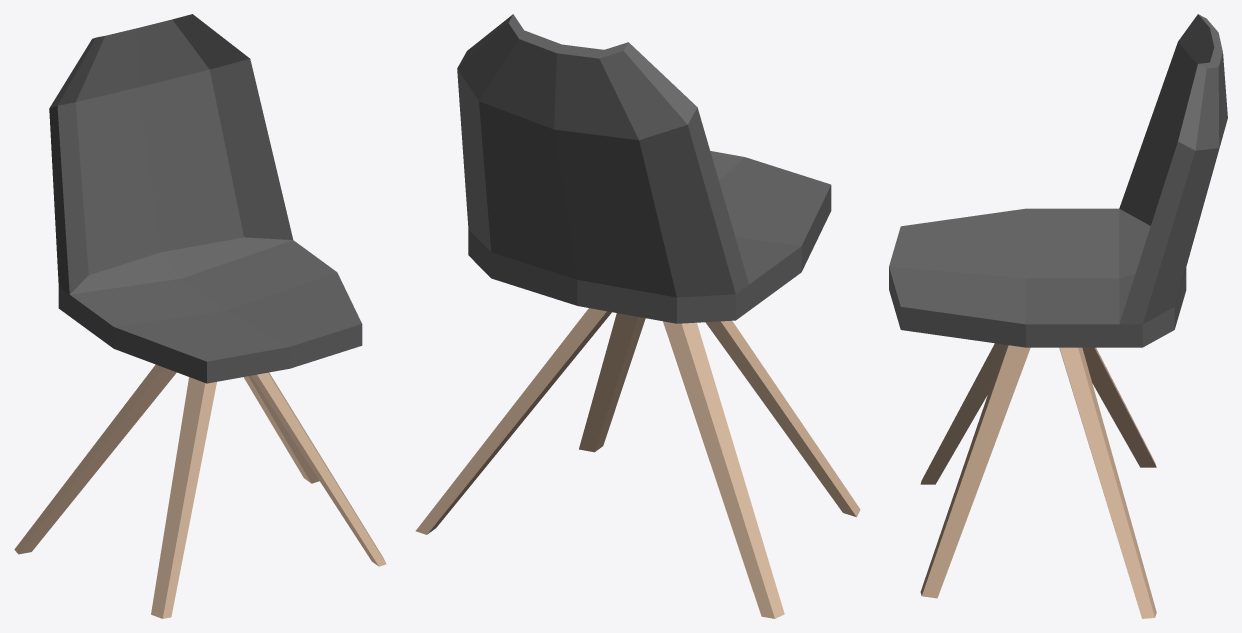
The model's file is chair2.gltf.
3 views of the same model, side by side, from view 1: azimuth 30°, elevation 25°; view 2: azimuth 150°, elevation 25°; view 3: azimuth 270°, elevation 25° (orthographic). The views are drawn at different scales.
Visible parts, largest first — view 1: Cube; view 2: Cube; view 3: Cube.
Part boxes in pixels (bbox=[...]): Cube: bbox=[14, 14, 386, 618]; Cube: bbox=[415, 14, 860, 618]; Cube: bbox=[889, 14, 1227, 618].
Bounding box in the file's own units: 0.6807 × 1.01 × 0.6178.
1 material, 1 textured.
